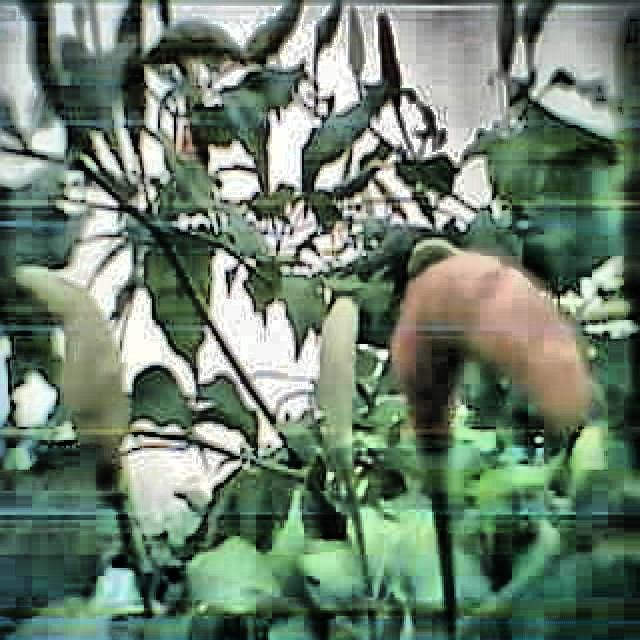Cabai: (406, 235, 589, 499)
